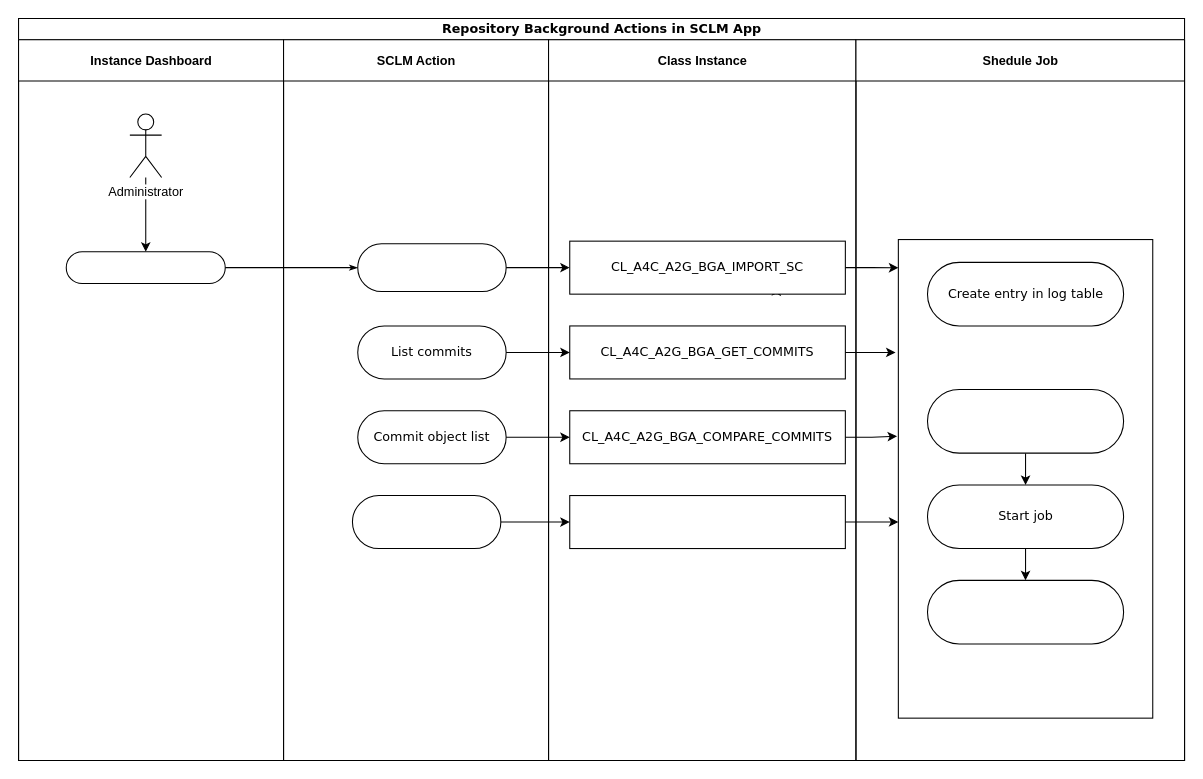
The diagram is 1203 pixels wide and 779 high, and some of its shapes have lost their labels. Here are the shapes that lost their labels. From the top down, the box of each, then its label:
(65, 251, 225, 284): SCLM App
(357, 243, 506, 292): Pull SC
(926, 388, 1124, 453): Create action
(351, 494, 501, 549): Switch branch
(569, 494, 845, 549): CL_A4C_A2G_BGA_SWITCH_BRANCH
(926, 579, 1124, 644): Update entry in log table
